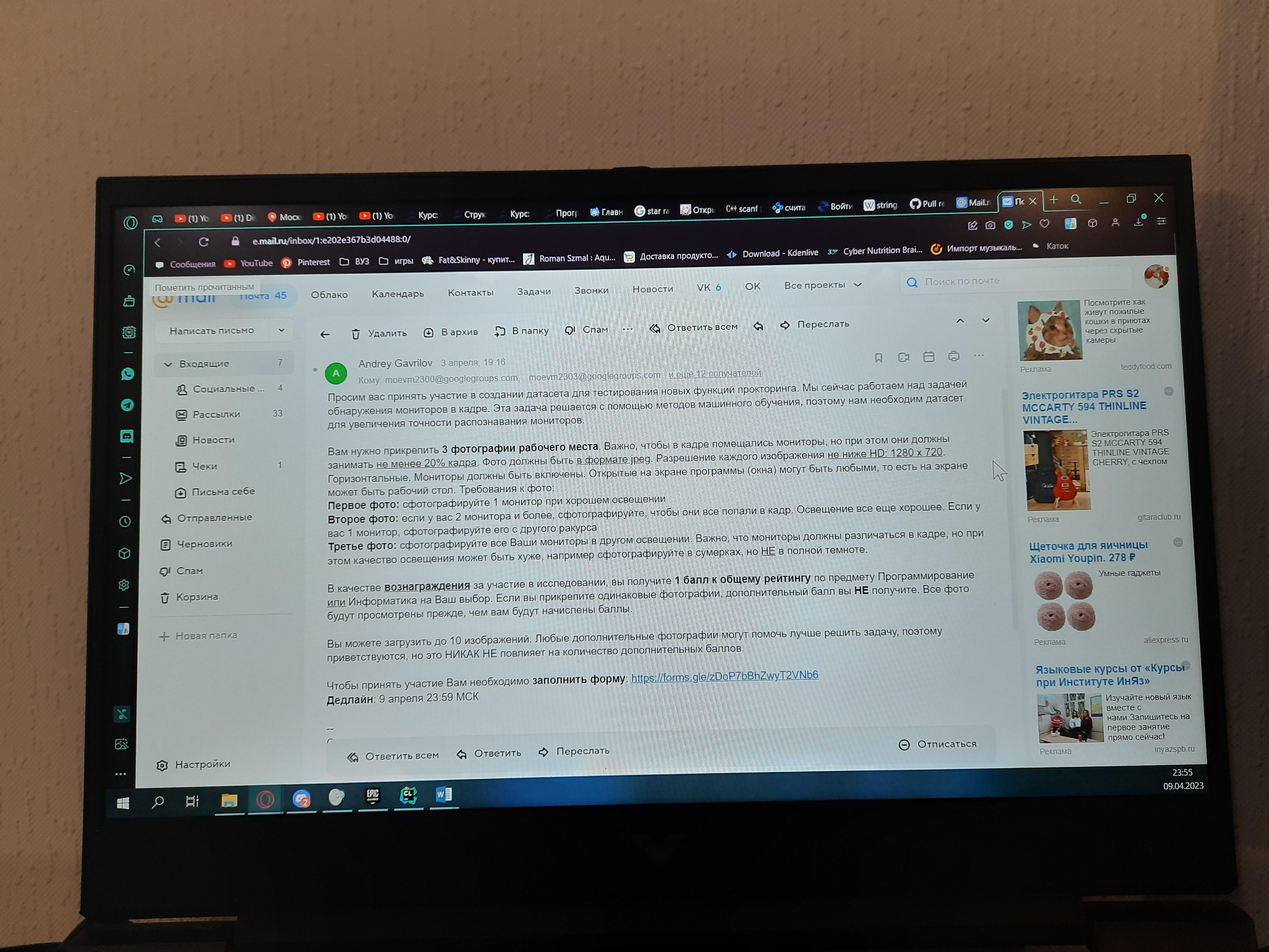monitor: (76, 152, 1233, 914)
